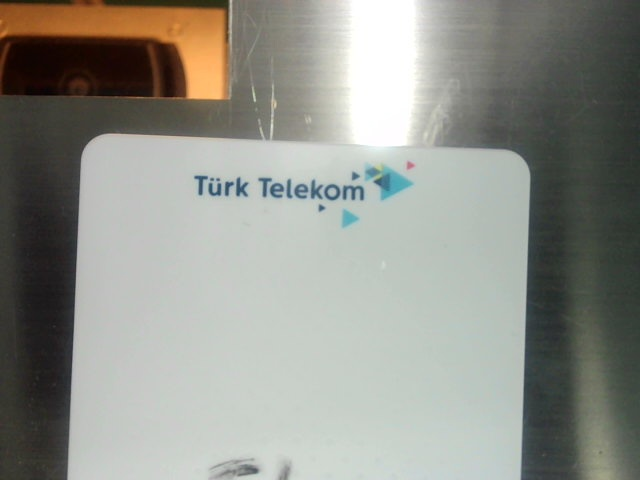AQ_TURKTelekom: (191, 150, 424, 236)
